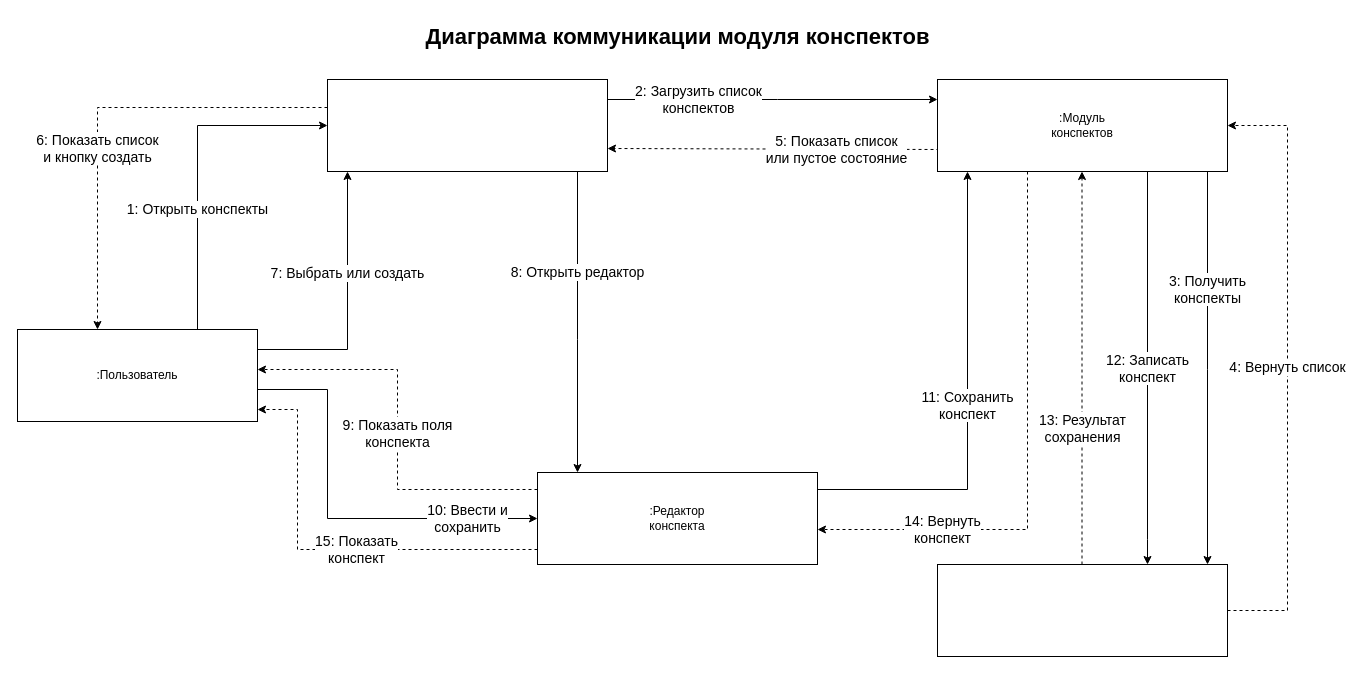
The diagram is 1363 pixels wide and 674 high, and some of its shapes have lost their labels. Here are the shapes that lost their labels. From the top down, the centre of each, then its label:
At (x=467, y=125): ":Экран конспектов".
At (x=1082, y=610): ":Локальное хранилище".
